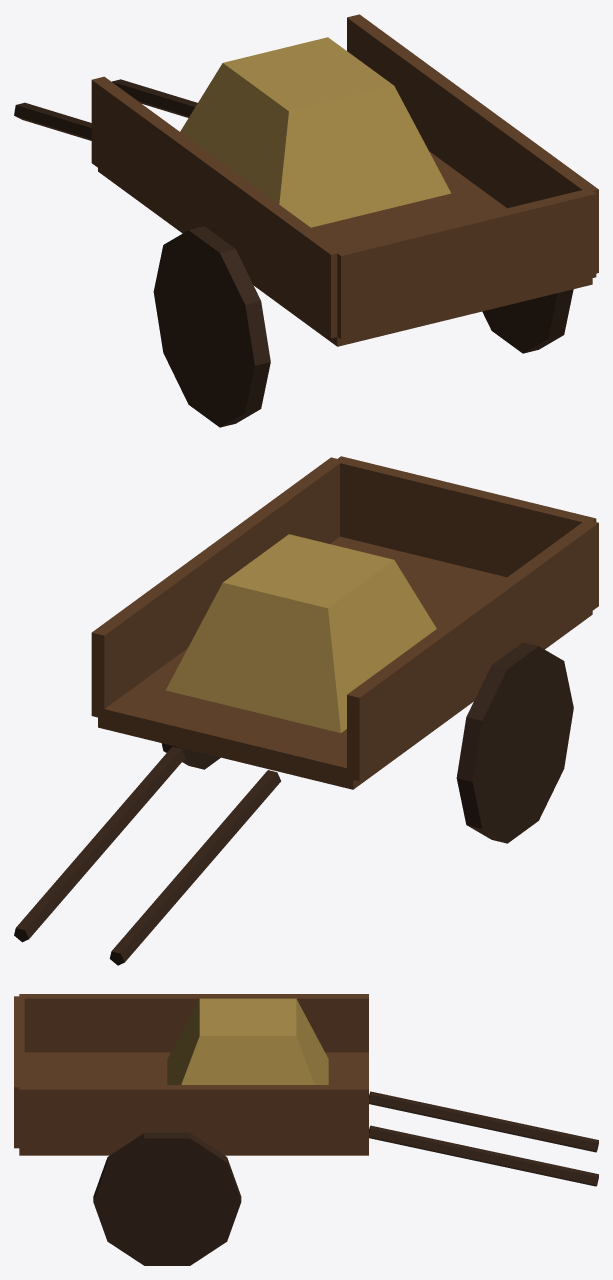
File: cart.glb
3 views of the same model, one above another, from view 1: azimuth 30°, elevation 25°; view 2: azimuth 150°, elevation 25°; view 3: azimuth 270°, elevation 25° (orthographic). The views are drawn at different scales.
Visible parts, largest first — view 1: cart; view 2: cart; view 3: cart.
Part boxes in pixels (x1=…): cart: x1=14, y1=14, x2=598, y2=427; cart: x1=14, y1=456, x2=598, y2=965; cart: x1=14, y1=994, x2=598, y2=1265.
Size of the model in its own units: 2 by 1.57 by 4.35.
